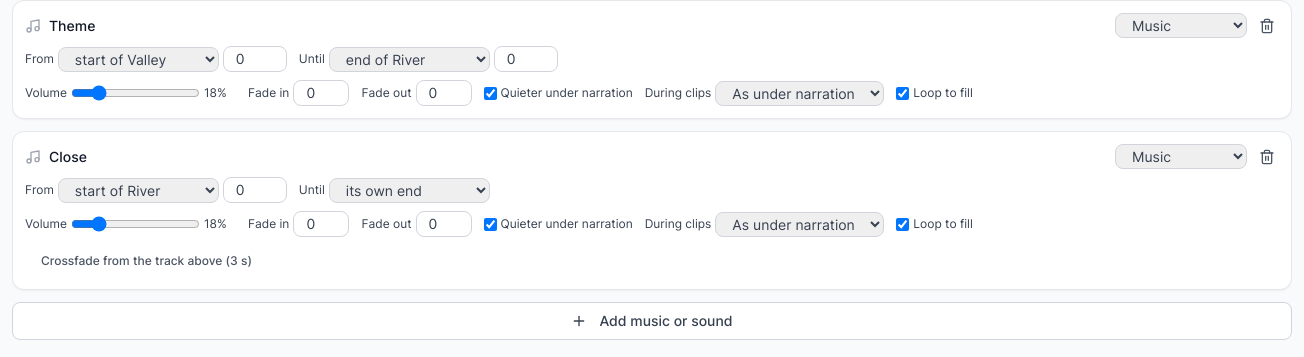
SoundtrackPanel › places a track between scenes and crossfades into the next
Select "start of River" in the dropdown labelled "Until" below "Theme" at (409, 59), box x1=329 y1=46 x2=490 y2=72
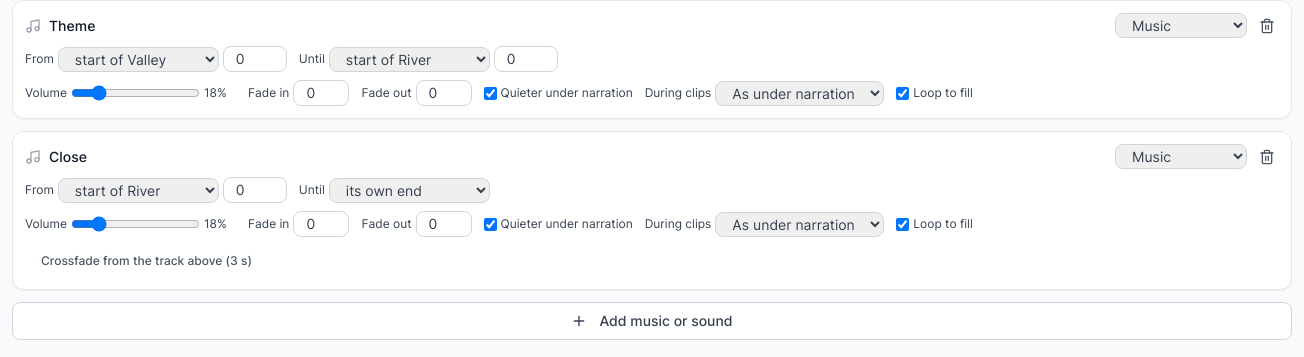
Click the button "Crossfade from the track above (3 s)" at (146, 261), box x1=25 y1=245 x2=268 y2=277
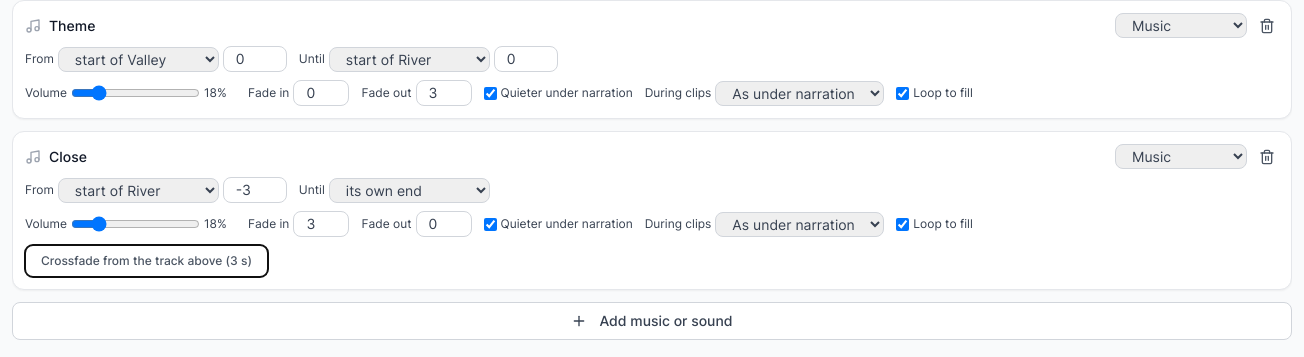
Set the slider labelled "Volume" below "Close" to "0.5" at (135, 224), box x1=71 y1=216 x2=200 y2=232
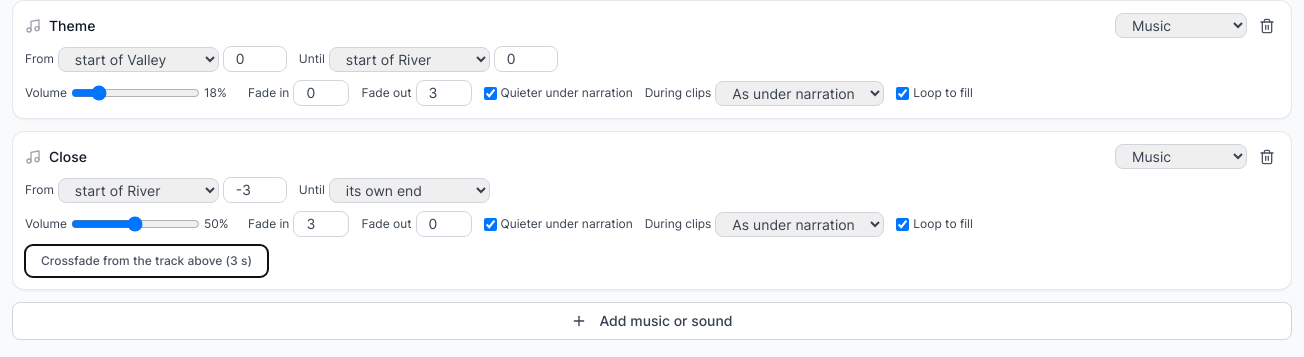
expect the checkbox labelled "Quieter under narration" in the row of "50" is checked: met, box x1=484 y1=218 x2=496 y2=230
expect the text "50%" is shown: met, box x1=204 y1=216 x2=228 y2=231
Select "Sound effect" in the dropdown named "Kind of track" in the row of "Close" at (1181, 156), box x1=1115 y1=144 x2=1247 y2=169
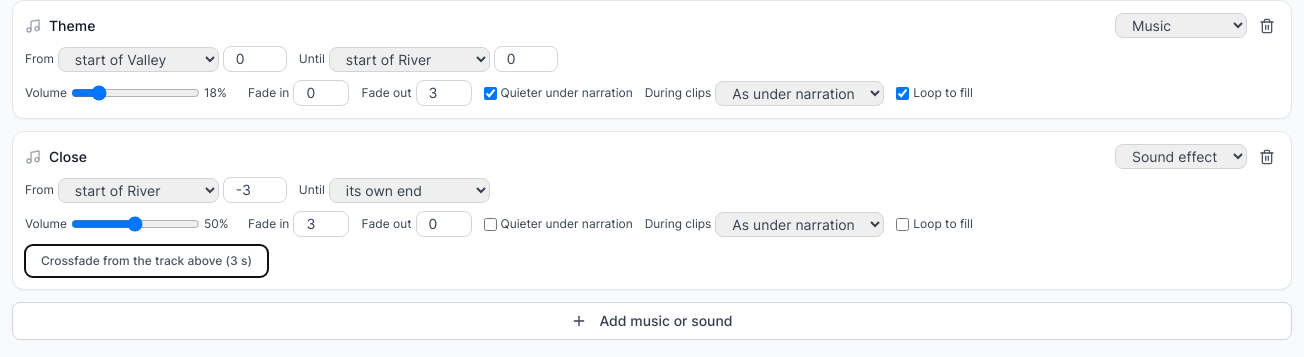
expect the checkbox labelled "Loop to fill" in the row of "50" is not checked: met, box x1=896 y1=218 x2=909 y2=230
